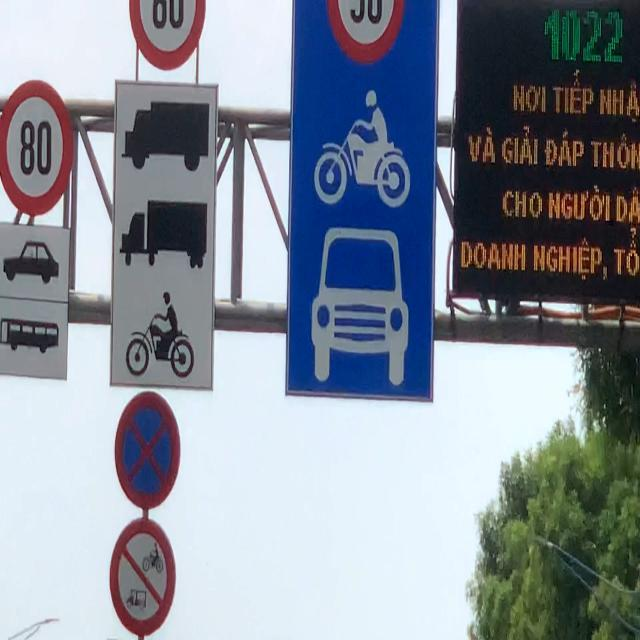P-127: (0, 77, 72, 214)
P-130: (114, 389, 180, 506)
